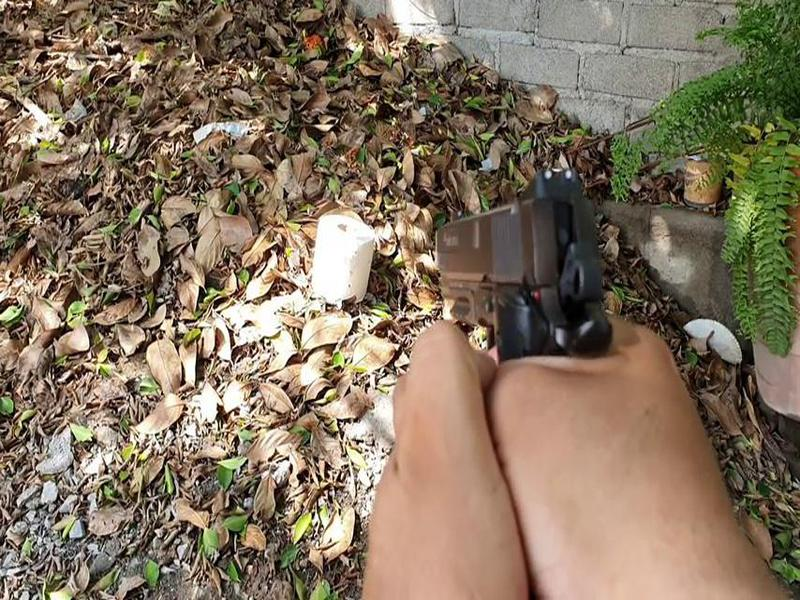Pistola: (395, 157, 621, 392)
